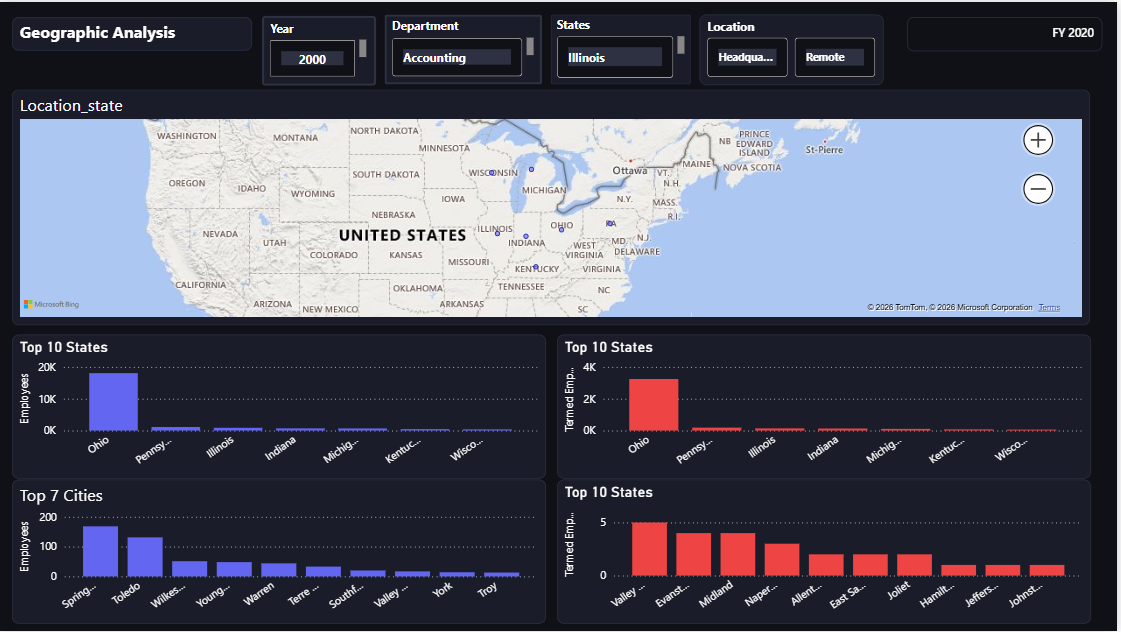

The page's visual inventory and layout, read from the dashboard file:
{"tool":"powerbi","page":{"name":"Geographic Overview","canvas":[1280,720],"ordinal":3},"visuals":[{"type":"group","id":"g1","title":"Group 1","box":[303.4,14.1,710.4,81.9],"z":0},{"type":"advancedSlicerVisual","title":"Department","fields":{"Values":["project_hr_analytics HR.department"]},"box":[443.4,14.1,180,80],"z":1000,"group":"g1"},{"type":"textbox","title":"Geographic Analysis","box":[17.1,17.1,274.3,38.6],"z":1000},{"type":"advancedSlicerVisual","fields":{"Values":["Dim Date.Year"]},"box":[303.4,15.4,130,80],"z":2000,"group":"g1"},{"type":"textbox","box":[1040.6,16.6,223,39],"z":2000},{"type":"advancedSlicerVisual","title":"Location","fields":{"Values":["project_hr_analytics HR.location"]},"box":[803.4,14.1,210,81],"z":3000,"group":"g1"},{"type":"map","title":"Location_state","fields":{"Category":["project_hr_analytics HR.location_state"]},"box":[17.2,99.7,1232,269.5],"z":3000},{"type":"advancedSlicerVisual","title":"States","fields":{"Values":["project_hr_analytics HR.location_state"]},"box":[633.4,14.1,160,80],"z":4000,"group":"g1"},{"type":"columnChart","title":"Top 10 States","fields":{"Category":["project_hr_analytics HR.location_state"],"Y":["CountNonNull(project_hr_analytics HR.id)"]},"box":[17,380,610,165],"z":4000},{"type":"columnChart","title":"Top 7 Cities","fields":{"Y":["CountNonNull(project_hr_analytics HR.id)"],"Category":["project_hr_analytics HR.location_city"]},"box":[17.2,545.2,610,165],"z":5000},{"type":"columnChart","title":"Top 10 States","fields":{"Category":["project_hr_analytics HR.location_state"],"Y":["CountNonNull(project_hr_analytics HR.id)"]},"box":[640,380.3,610,165],"z":6000},{"type":"columnChart","title":"Top 10 States","fields":{"Y":["CountNonNull(project_hr_analytics HR.id)"],"Category":["project_hr_analytics HR.location_city"]},"box":[640,545.2,610,165],"z":7000}]}

Visuals, with their boxes in screenshot pixels (x1, y1, x2, y2), scaled from the page's 1280x720 canvas onto the 1121x632 screenshot:
"Group 1" group: x1=266 y1=12 x2=888 y2=84
"Department" advancedSlicerVisual: x1=388 y1=12 x2=546 y2=83
"Geographic Analysis" textbox: x1=15 y1=15 x2=255 y2=49
advancedSlicerVisual - Dim Date.Year: x1=266 y1=14 x2=380 y2=84
textbox: x1=911 y1=15 x2=1107 y2=49
"Location" advancedSlicerVisual: x1=704 y1=12 x2=888 y2=83
"Location_state" map: x1=15 y1=88 x2=1094 y2=324
"States" advancedSlicerVisual: x1=555 y1=12 x2=695 y2=83
"Top 10 States" columnChart: x1=15 y1=334 x2=549 y2=478
"Top 7 Cities" columnChart: x1=15 y1=479 x2=549 y2=623
"Top 10 States" columnChart: x1=560 y1=334 x2=1095 y2=479
"Top 10 States" columnChart: x1=560 y1=479 x2=1095 y2=623
